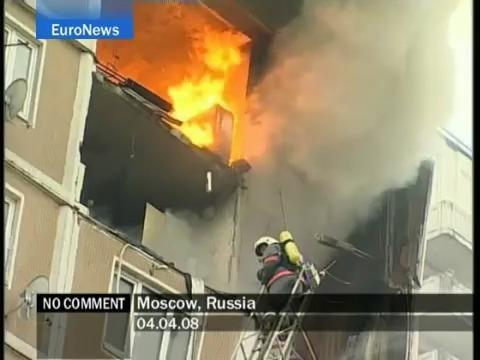fire: (165, 28, 251, 146)
